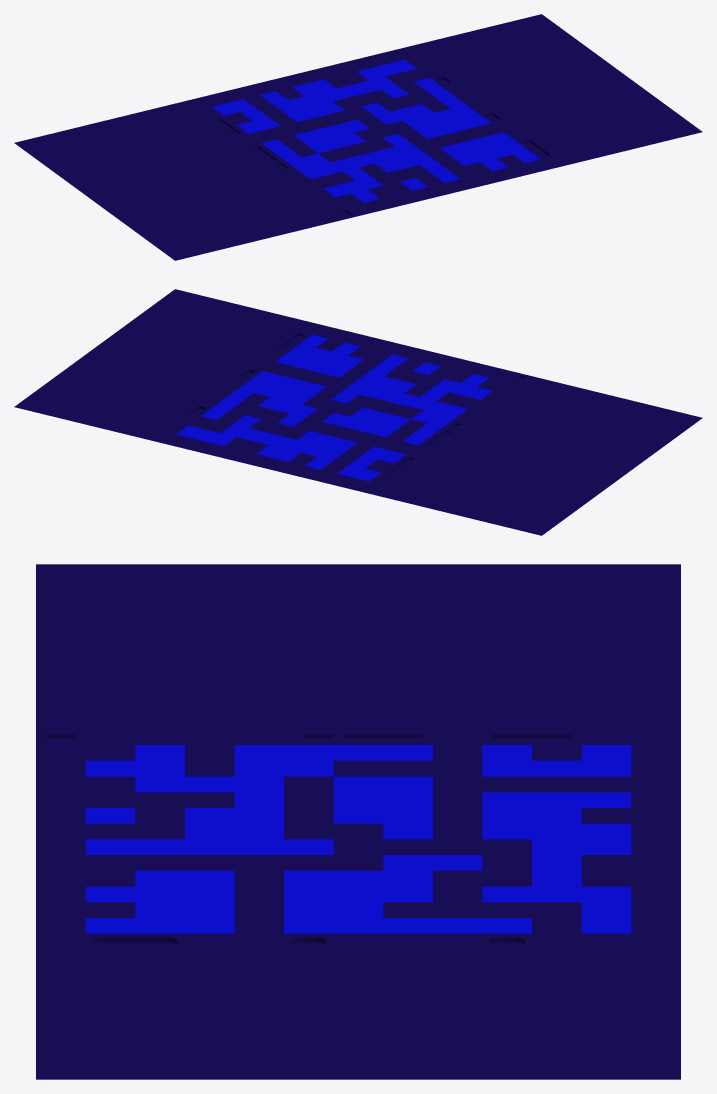
The model's file is floor1.glb.
3 renders of one model, top to bottom at view 1: azimuth 30°, elevation 25°; view 2: azimuth 150°, elevation 25°; view 3: azimuth 270°, elevation 25°, orthographic. The views are drawn at different scales.
Parts seen in each view (by area): view 1: floor1; view 2: floor1; view 3: floor1.
Boxes of the visible parts, x1,y1,x2,y2 form: floor1: (14, 14, 702, 260); floor1: (14, 289, 702, 535); floor1: (36, 564, 680, 1079).
Size of the model in its own units: 123 by 0.5412 by 65.
